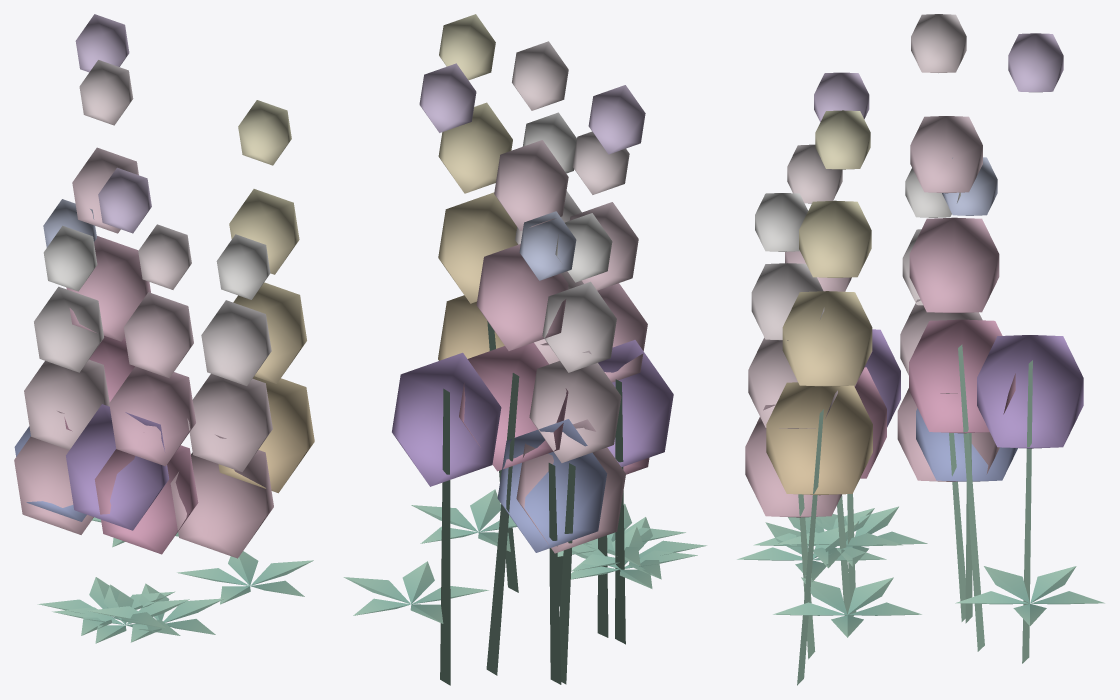
The model's file is lupin_clump.glb.
3 renders of one model, left to right at view 1: azimuth 30°, elevation 25°; view 2: azimuth 150°, elevation 25°; view 3: azimuth 270°, elevation 25°, orthographic. The views are drawn at different scales.
Visible parts, largest first — view 1: near, far; view 2: near, far; view 3: near, far.
Boxes of the visible parts, box(x1,y1,x2,y2) form: near: box(14, 60, 314, 643); far: box(14, 14, 169, 530); near: box(343, 14, 706, 684); far: box(392, 63, 673, 685); near: box(737, 14, 1104, 685); far: box(814, 33, 1083, 663).
Bounding box in the file's own units: 0.4656 × 1.03 × 0.5522.
